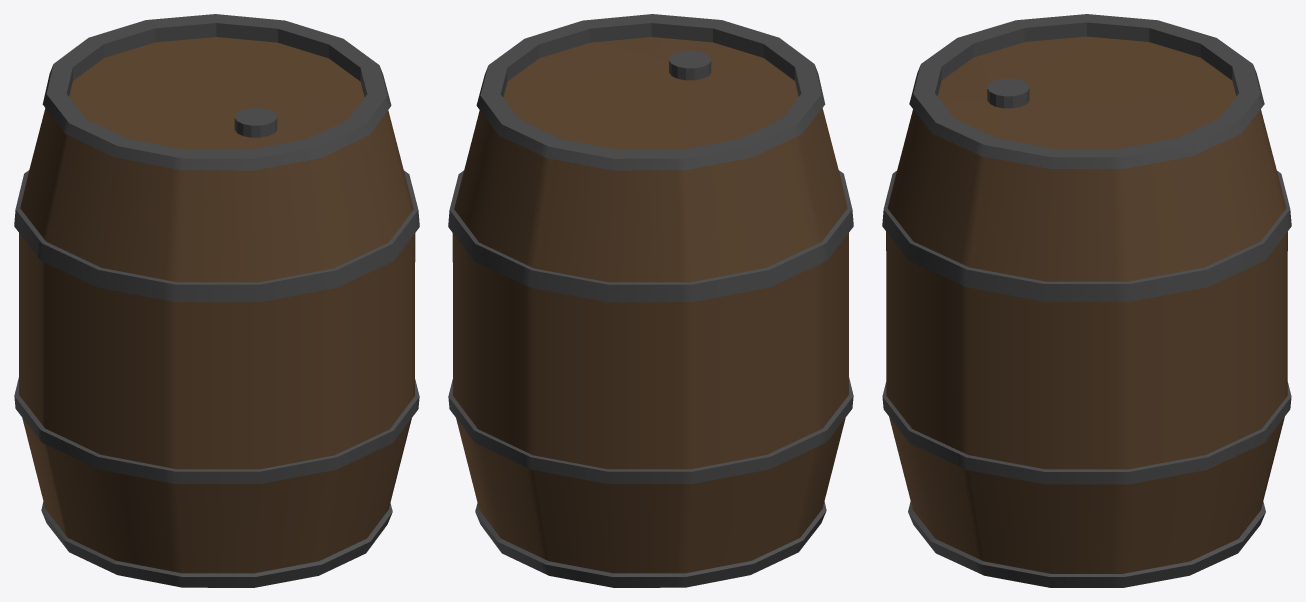
The model's file is 3DModel_Barrels_v1_BS.fbx.
3 renders of one model, left to right at view 1: azimuth 30°, elevation 25°; view 2: azimuth 150°, elevation 25°; view 3: azimuth 270°, elevation 25°, orthographic.
Visible parts, largest first — view 1: Asset_Barrel_BS; view 2: Asset_Barrel_BS; view 3: Asset_Barrel_BS.
Part boxes in pixels (left/top/right/bottom): Asset_Barrel_BS: left=14, top=14, right=419, bottom=587; Asset_Barrel_BS: left=448, top=14, right=853, bottom=587; Asset_Barrel_BS: left=882, top=14, right=1291, bottom=587.
Size of the model in its own units: 2.05 by 2.42 by 2.08.
